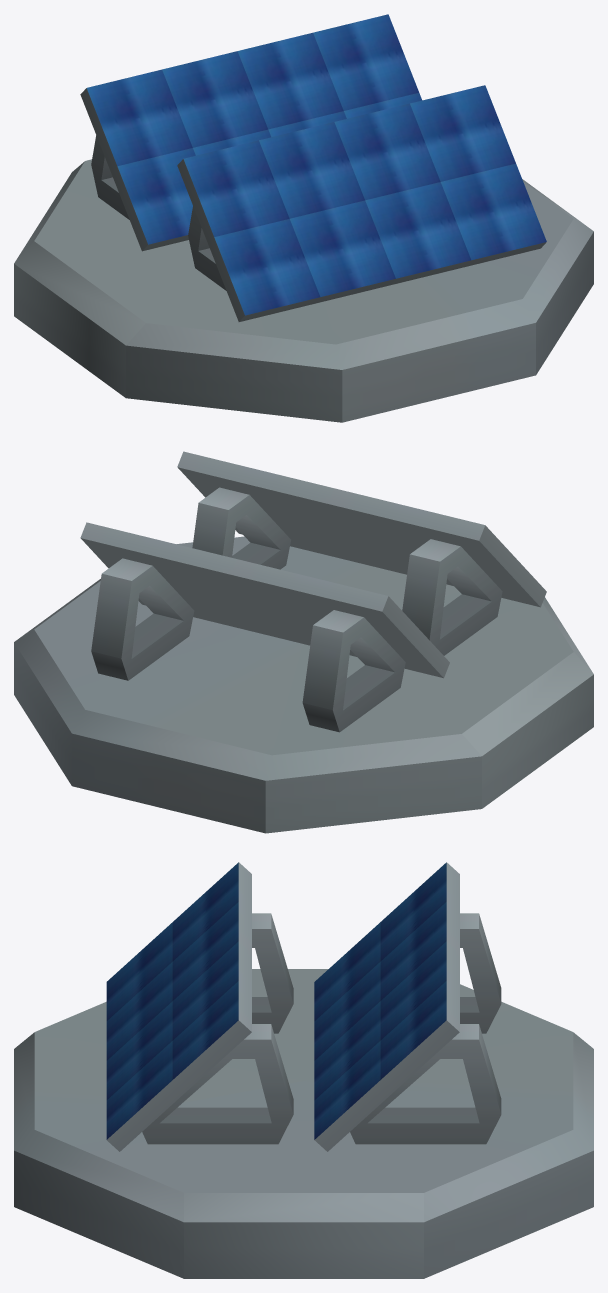
The model's file is kay-teto-paineis.gltf.
The picture shows the model from 3 angles, top to bottom: view 1: azimuth 30°, elevation 25°; view 2: azimuth 150°, elevation 25°; view 3: azimuth 270°, elevation 25°; orthographic projection. The views are drawn at different scales.
Visible parts, largest first — view 1: roofmodule_solarpanels; view 2: roofmodule_solarpanels; view 3: roofmodule_solarpanels.
Part boxes in pixels (x1,y1,x2,y2): roofmodule_solarpanels: (14, 14, 593, 422); roofmodule_solarpanels: (14, 451, 593, 833); roofmodule_solarpanels: (14, 862, 593, 1278).
Bounding box in the file's own units: 3.63 × 1.48 × 3.63.
1 material, 1 textured.
